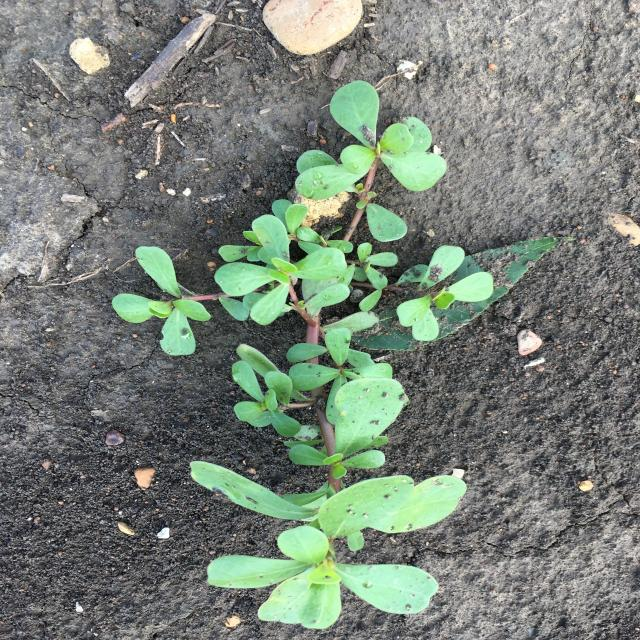Purslane: (112, 80, 493, 629)
